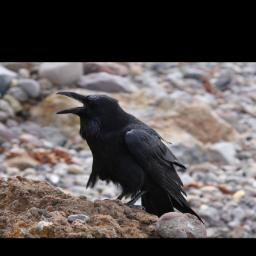Crow: (55, 92, 206, 224)
